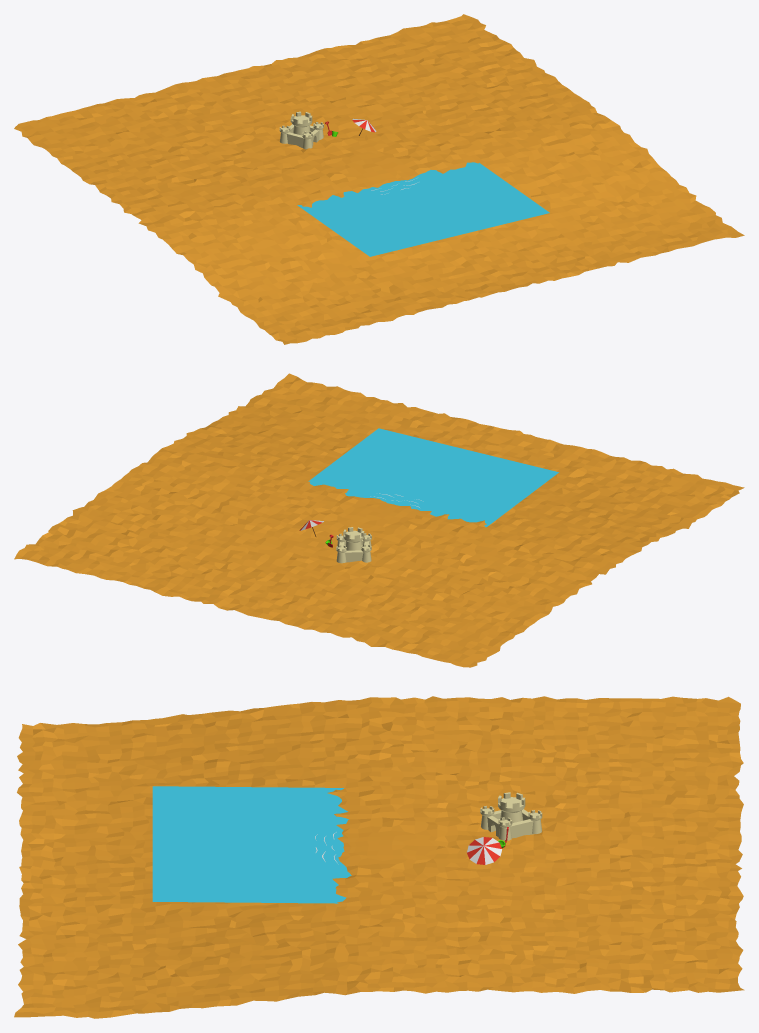
File: Beach_Level.fbx
3 renders of one model, top to bottom at view 1: azimuth 30°, elevation 25°; view 2: azimuth 150°, elevation 25°; view 3: azimuth 270°, elevation 25°, orthographic. The views are drawn at different scales.
Parts seen in each view (by area): view 1: Plane.013, Plane.014, Cylinder.013; view 2: Plane.013, Plane.014, Cylinder.013; view 3: Plane.013, Plane.014, Cylinder.013, Cylinder.014.
Part boxes in pixels (x1,y1,x2,y2): Plane.013: (14, 14, 744, 344); Plane.014: (297, 162, 549, 256); Cylinder.013: (279, 111, 323, 149); Plane.013: (14, 373, 744, 667); Plane.014: (308, 428, 558, 527); Cylinder.013: (336, 527, 371, 563); Plane.013: (14, 696, 744, 1018); Plane.014: (152, 786, 351, 903); Cylinder.013: (480, 792, 542, 840); Cylinder.014: (466, 837, 502, 864).
Bounding box in the file's own units: 3943 × 364 × 4081.
